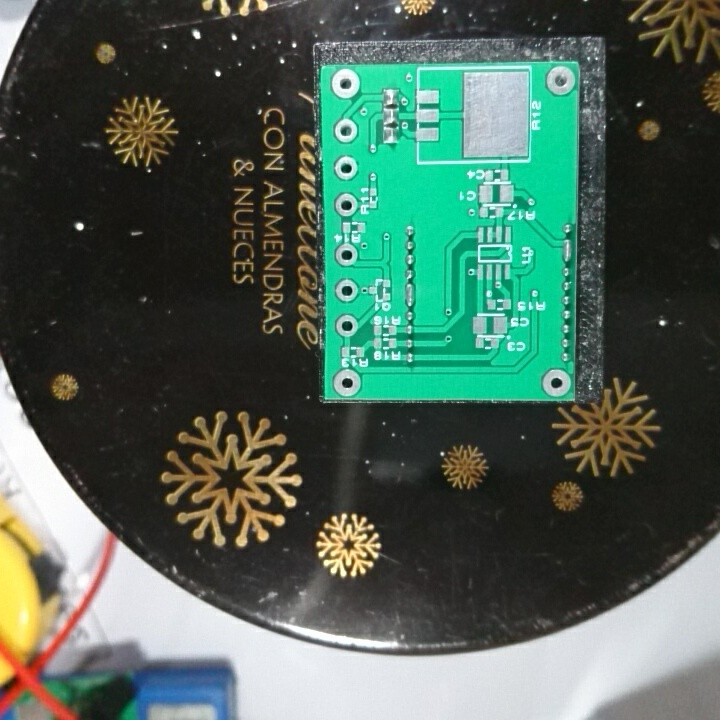F: (330, 365, 363, 398), (544, 63, 576, 96), (540, 366, 572, 399), (330, 66, 361, 100), (333, 117, 359, 147), (333, 275, 359, 305), (332, 154, 359, 181), (334, 191, 360, 218), (333, 241, 359, 266), (334, 312, 359, 338)
P: (403, 281, 419, 308), (561, 235, 574, 264)
